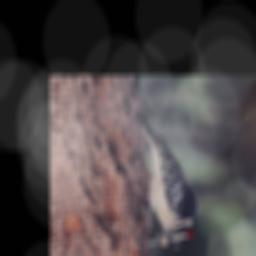Woodpecker: (116, 104, 210, 256)
